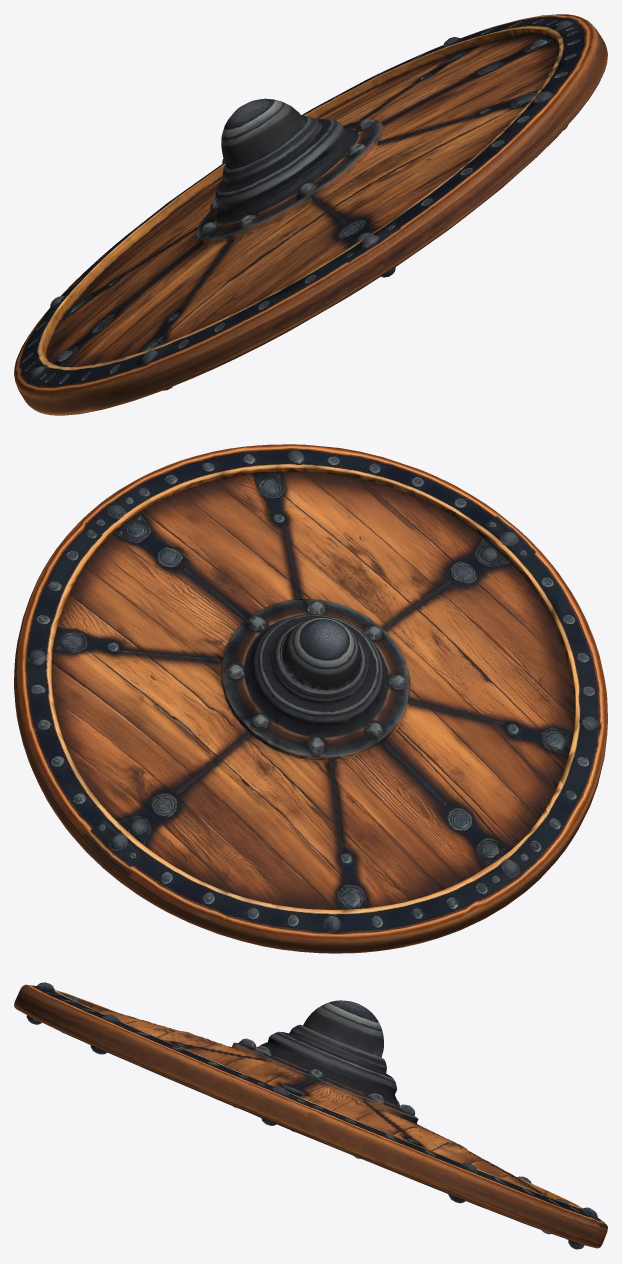
File: round_shield.glb
The picture shows the model from 3 angles, top to bottom: view 1: azimuth 30°, elevation 25°; view 2: azimuth 150°, elevation 25°; view 3: azimuth 270°, elevation 25°; orthographic projection. The views are drawn at different scales.
Visible parts, largest first — view 1: mesh_node; view 2: mesh_node; view 3: mesh_node.
Boxes of the visible parts, x1,y1,x2,y2 form: mesh_node: (14,14,607,415); mesh_node: (14,444,607,953); mesh_node: (14,982,607,1249).
Size of the model in its own units: 56.09 by 33.58 by 55.99.
Materials: 1 (1 with a texture image).
